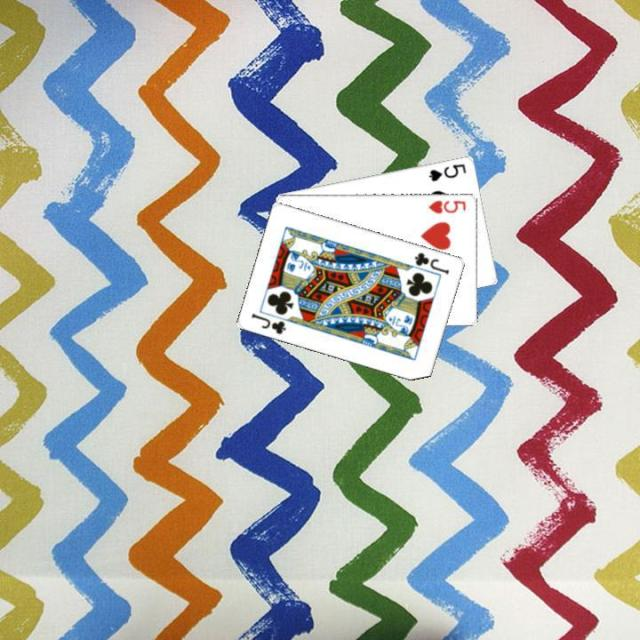5H: (425, 197, 467, 215)
5S: (425, 159, 468, 183)
JC: (411, 248, 452, 276), (248, 308, 288, 336)
